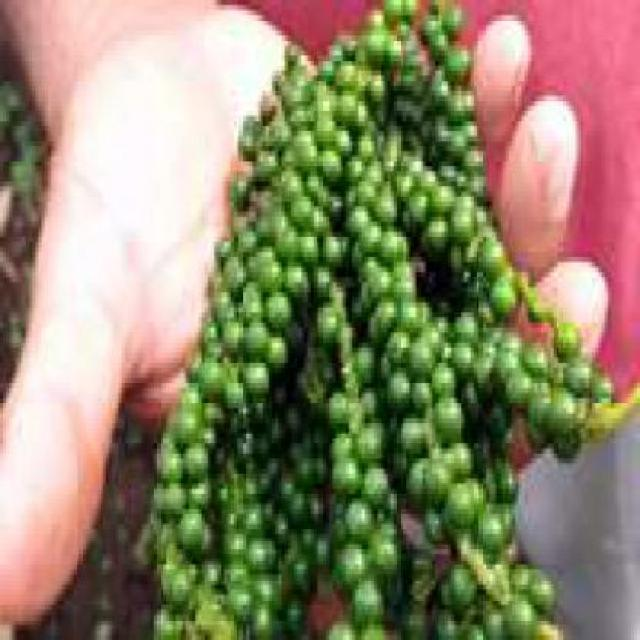UNRIPE: (323, 0, 465, 631), (163, 65, 320, 630), (470, 444, 570, 630), (467, 337, 627, 438), (467, 81, 484, 322), (489, 227, 522, 322)
